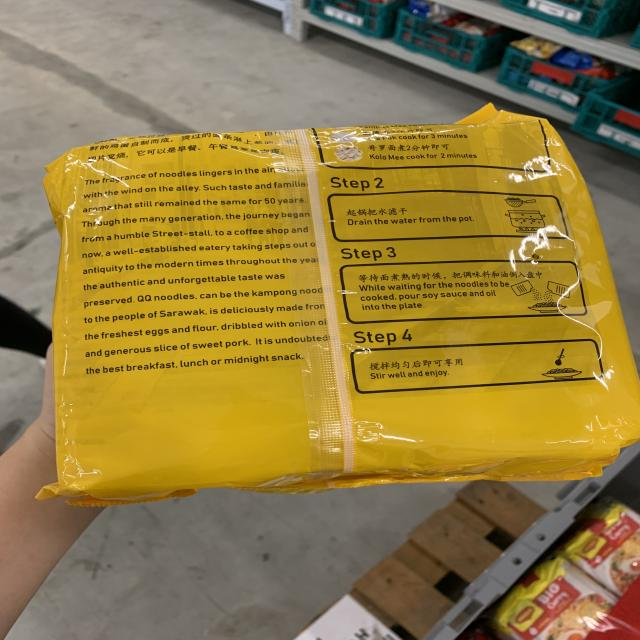object_name: (54, 146, 621, 469)
